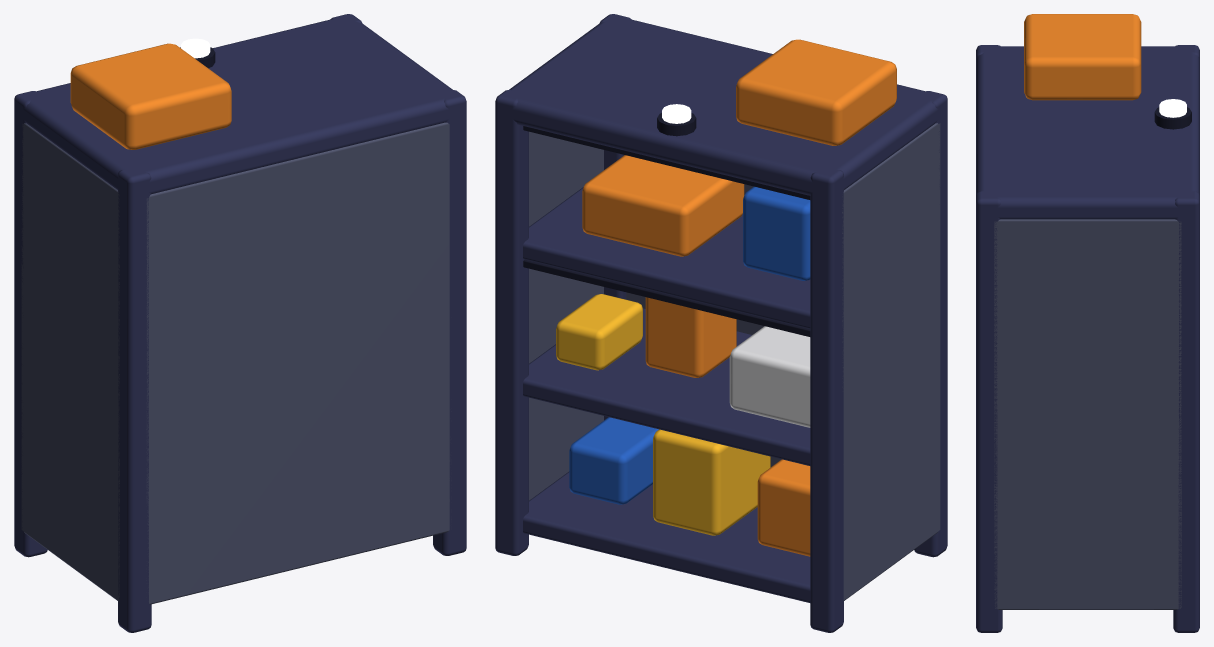
Rendered from prop.props_workrooms.cargo_rack.glb.
3 views of the same model, side by side, from view 1: azimuth 30°, elevation 25°; view 2: azimuth 150°, elevation 25°; view 3: azimuth 270°, elevation 25° (orthographic). The views are drawn at different scales.
Visible parts, largest first — view 1: prop.props_workrooms.cargo_rack; view 2: prop.props_workrooms.cargo_rack; view 3: prop.props_workrooms.cargo_rack.
Boxes of the visible parts, x1,y1,x2,y2 form: prop.props_workrooms.cargo_rack: (14,14,466,632); prop.props_workrooms.cargo_rack: (495,14,947,632); prop.props_workrooms.cargo_rack: (976,14,1199,632).
Size of the model in its own units: 0.7 by 0.99 by 0.42.
